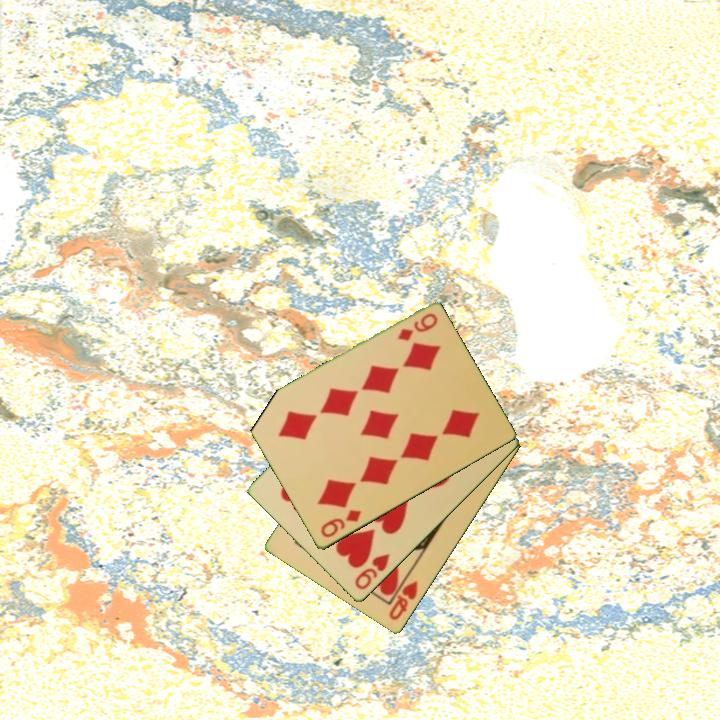9d: (317, 506, 364, 541), (394, 310, 441, 344)
9h: (351, 550, 393, 593)
Qh: (385, 570, 421, 623)
